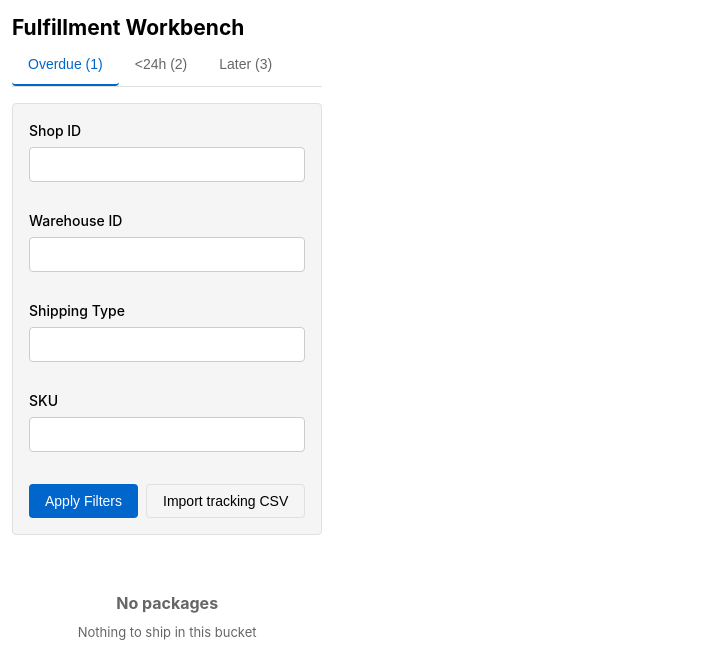
Test case: FulfillmentPage › should switch tabs and load queue
The width and height of the screenshot is (710, 657).
Click the button "<24h (2)". click: (161, 64)
box: left=119, top=44, right=203, bottom=86
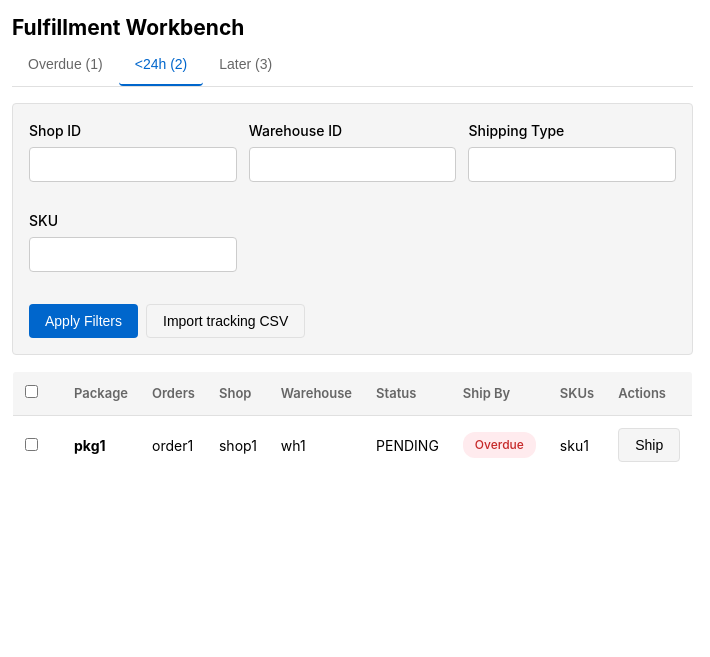
Expected: the text "pkg1" is shown, left=74, top=436, right=106, bottom=454
